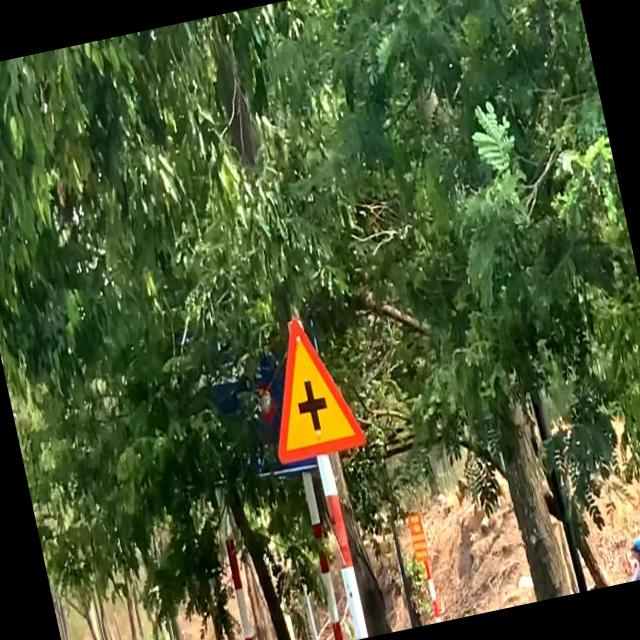W-205a: (248, 306, 366, 468)
